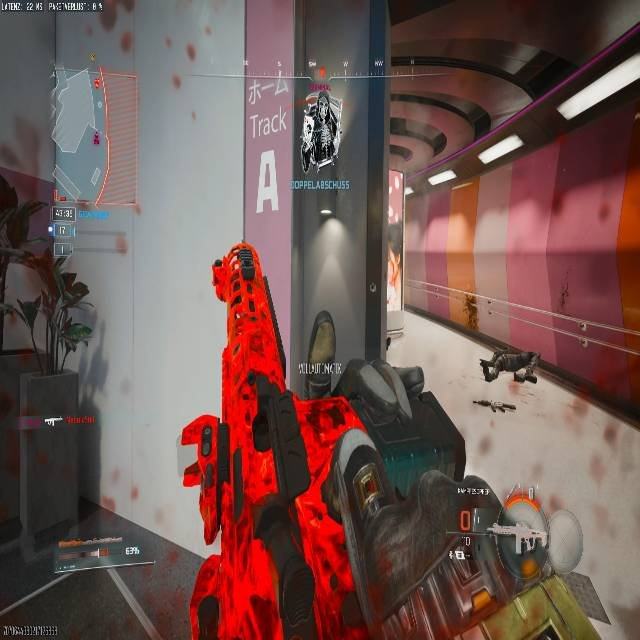head: (489, 496, 554, 575)
